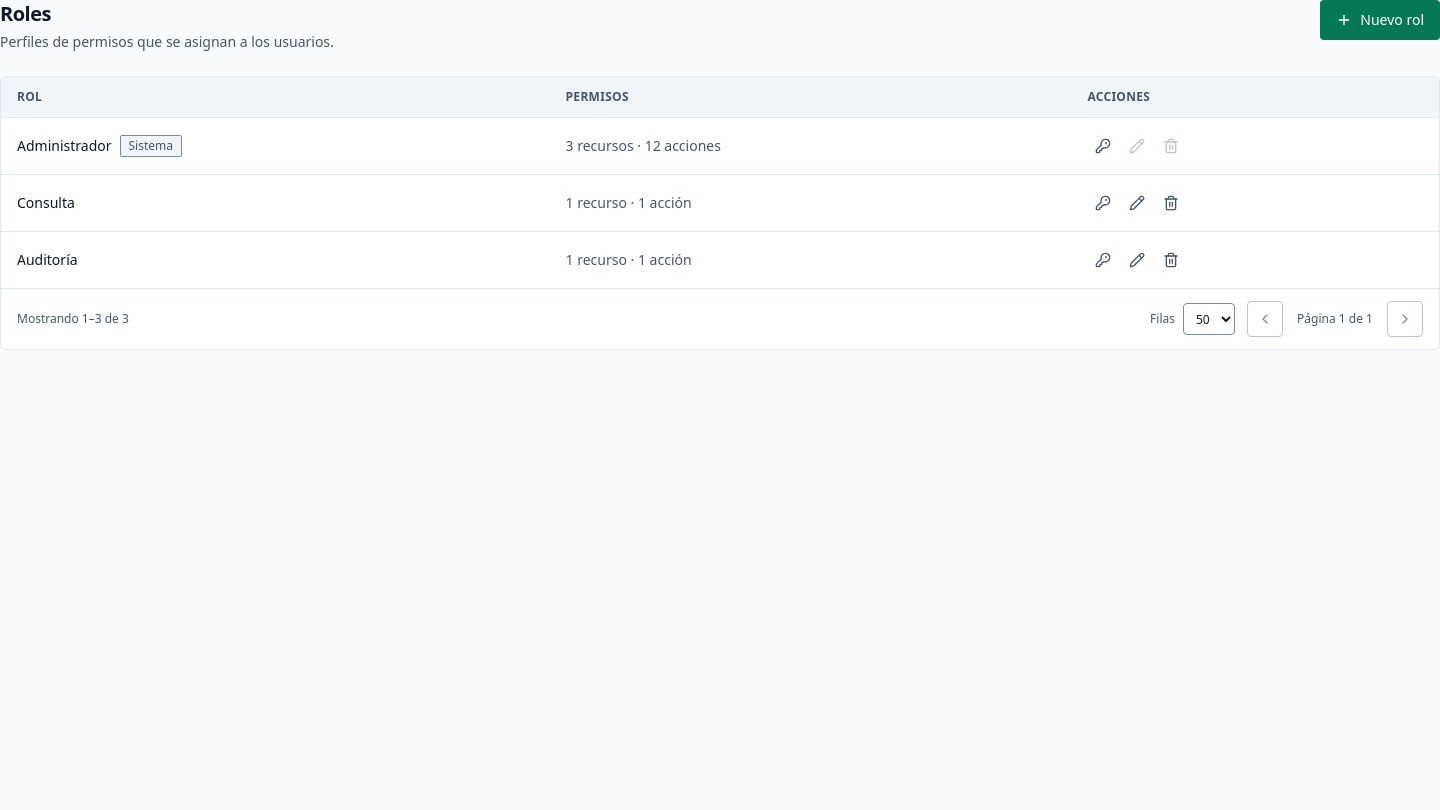
RolesPage › muestra marcados solo los permisos que el rol ya tiene
The image size is (1440, 810).
expect the cell "Consulta" is shown: met, box [1,174,550,232]
What coordinates should you click on to do the following:
click the button named "Ver permisos de Consulta"
I would click on:
 (1103, 203)
Its box is [1087,187,1119,219].
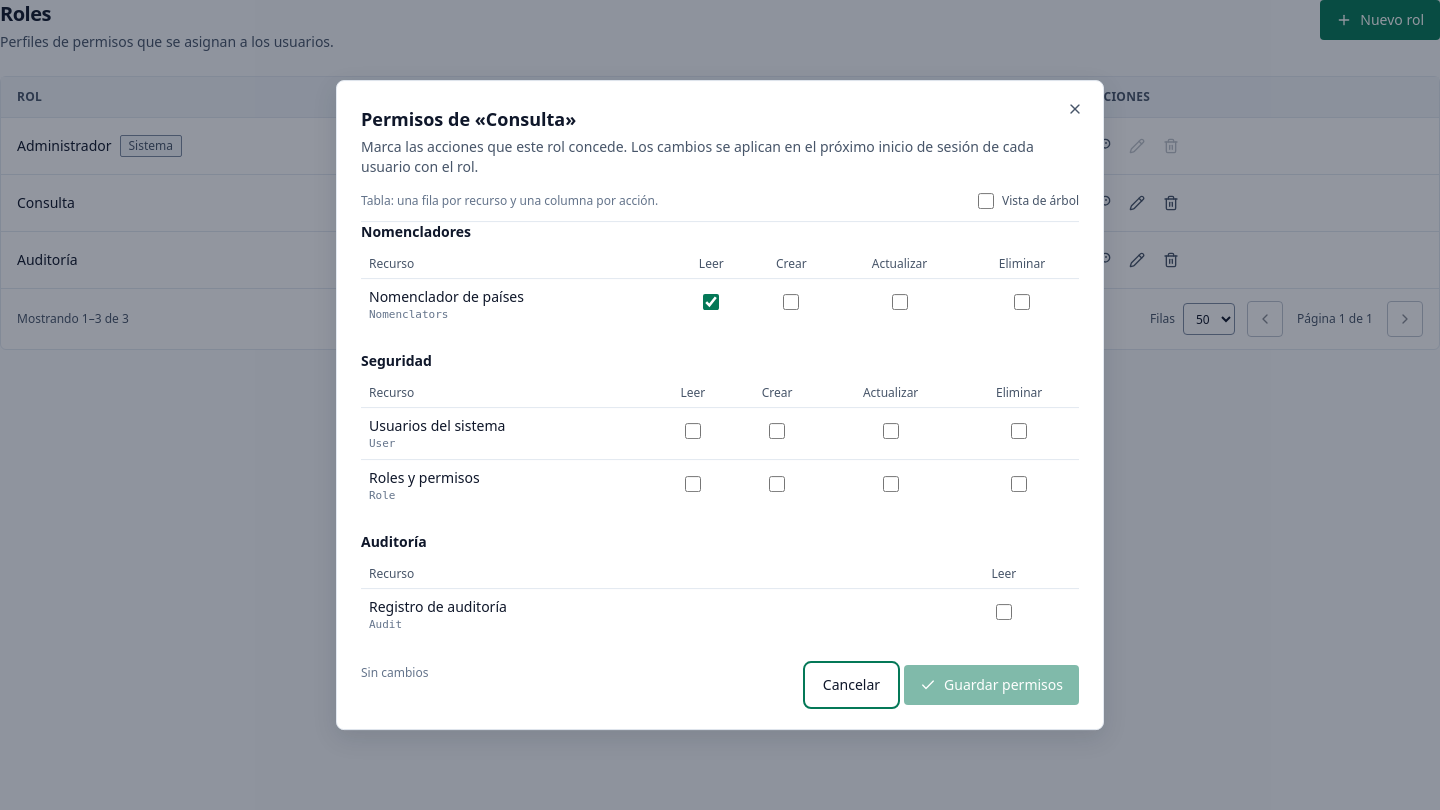
expect the checkbox named "Leer en Nomenclador de países" is checked: met, box [703,294,719,310]
expect the checkbox named "Crear en Nomenclador de países" is not checked: met, box [783,294,799,310]
expect the checkbox named "Leer en Usuarios del sistema" is not checked: met, box [685,423,701,439]
